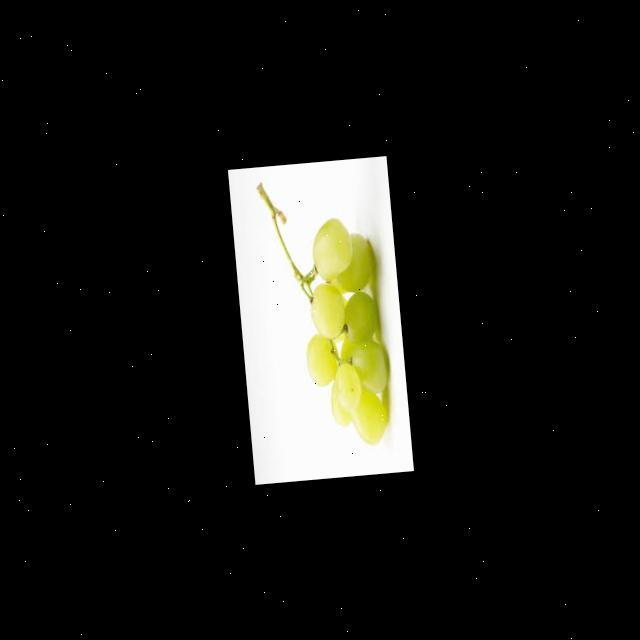grape: (292, 215, 394, 451)
